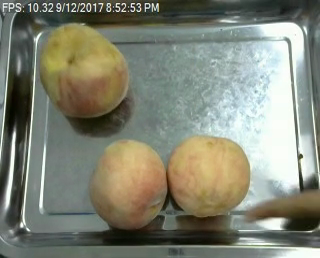Peach: (38, 22, 128, 119), (89, 138, 167, 231), (168, 134, 250, 215)
